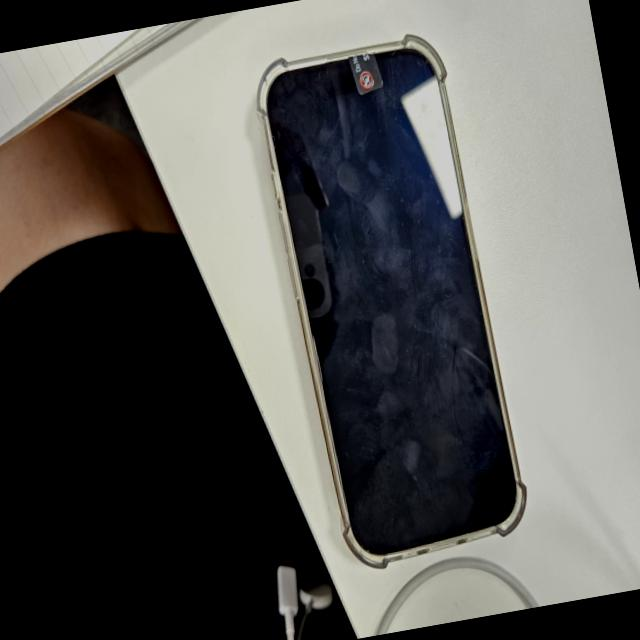phone: (247, 27, 534, 572)
sticker: (346, 49, 382, 94)
